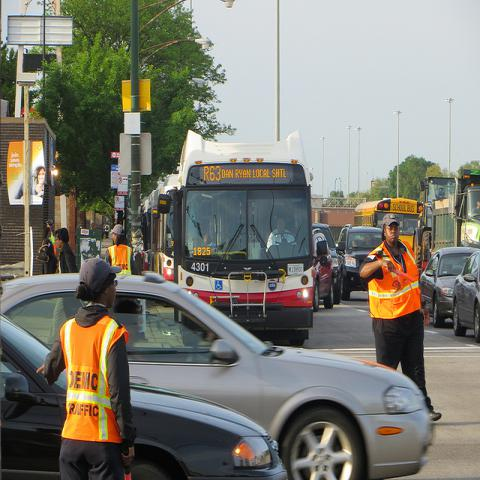bus: (176, 165, 313, 349), (353, 197, 423, 248), (149, 170, 178, 278)
car: (3, 274, 434, 474), (421, 244, 479, 327), (337, 224, 383, 302), (452, 246, 480, 341), (313, 223, 341, 305), (313, 228, 336, 310)
truck: (429, 170, 479, 255)
